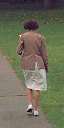person: (11, 18, 58, 114)
